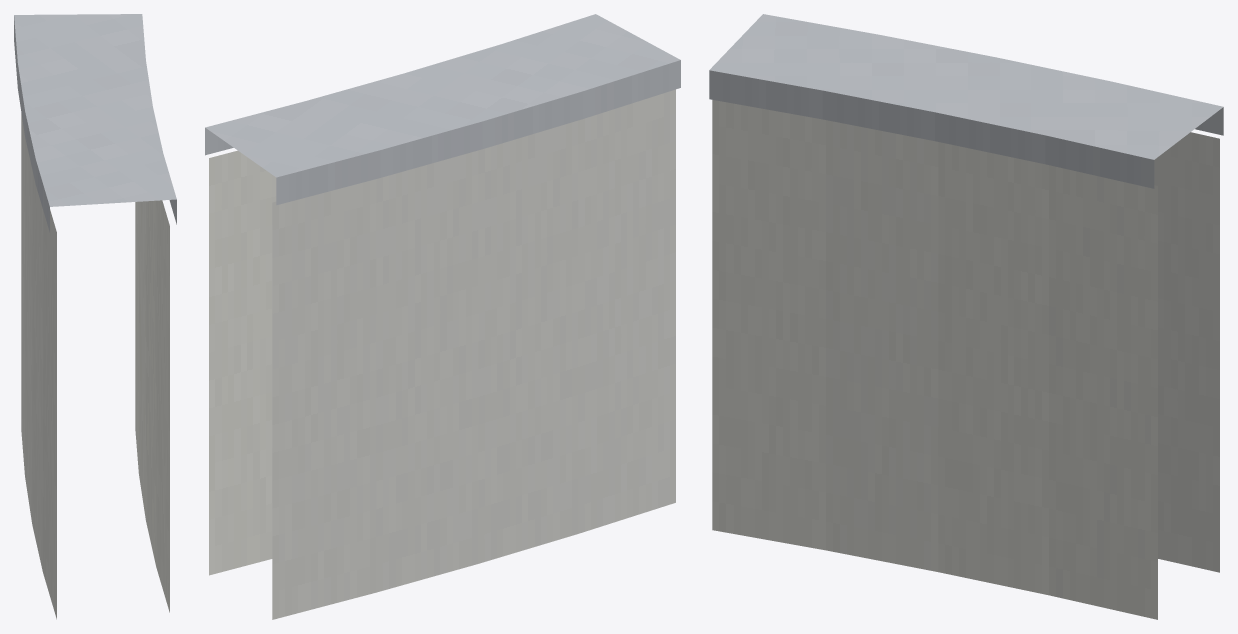
File: curve_board_03.obj
3 views of the same model, side by side, from view 1: azimuth 30°, elevation 25°; view 2: azimuth 150°, elevation 25°; view 3: azimuth 270°, elevation 25° (orthographic). The views are drawn at different scales.
Visible parts, largest first — view 1: curve_board_03; view 2: curve_board_03; view 3: curve_board_03.
Part boxes in pixels (left/top/right/bottom): curve_board_03: left=14, top=14, right=176, bottom=619; curve_board_03: left=205, top=14, right=680, bottom=619; curve_board_03: left=709, top=14, right=1223, bottom=619.
Bounding box in the file's own units: 0.6761 × 1 × 1.01.
